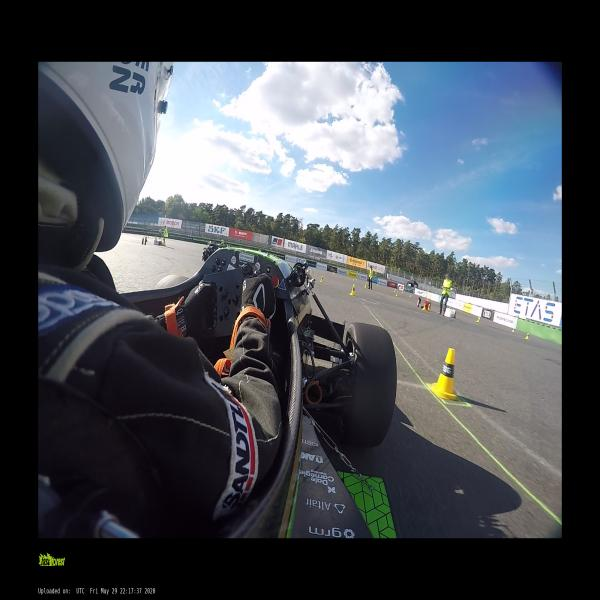yellow_cone: (432, 349, 458, 399), (351, 284, 356, 296), (427, 303, 431, 312), (320, 276, 324, 284), (524, 332, 528, 338), (423, 303, 426, 310), (364, 282, 366, 288), (396, 292, 398, 297), (353, 277, 355, 281)
